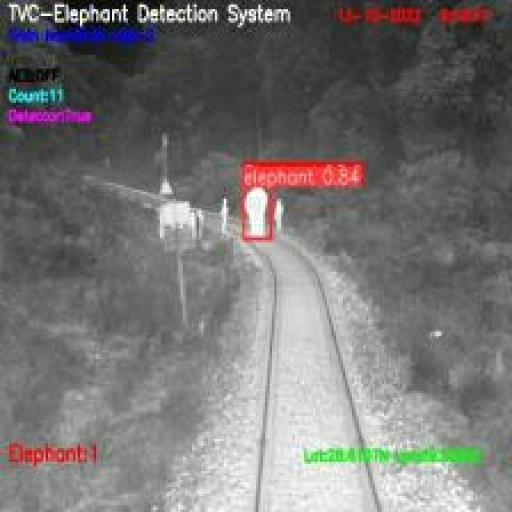Elephant: (245, 185, 272, 239)
